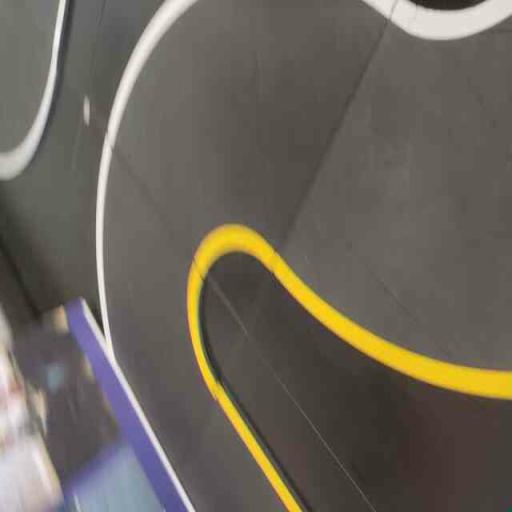right: (261, 0, 511, 457)
